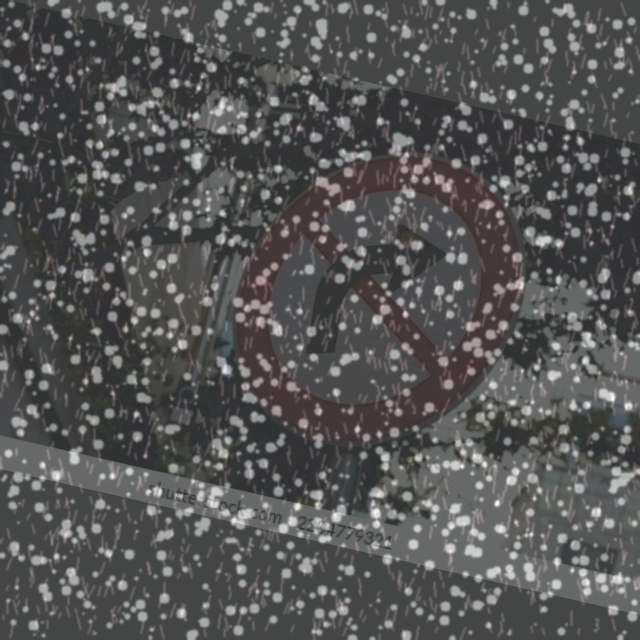Right_Turn_Prohibited: (206, 124, 549, 476)
